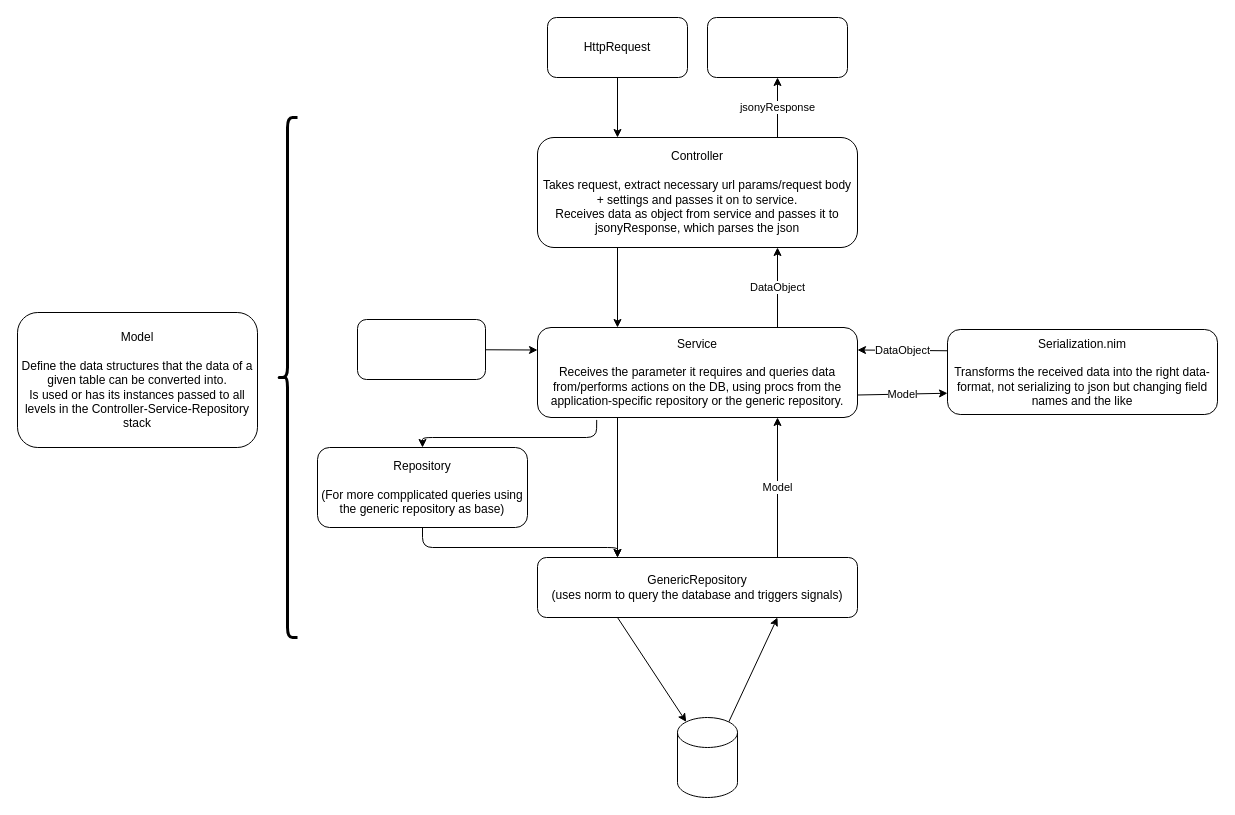
Image size: 1235x815. Some labels were removed from this diagram. The shapes that lost their labels are listed below. From the top down, each one's centre as x and y in pixels, then its label:
(x=777, y=47): HttpResponse JSON
(x=421, y=349): Utils (optional) Helper functions for dealing with models
(x=707, y=757): SQLite
